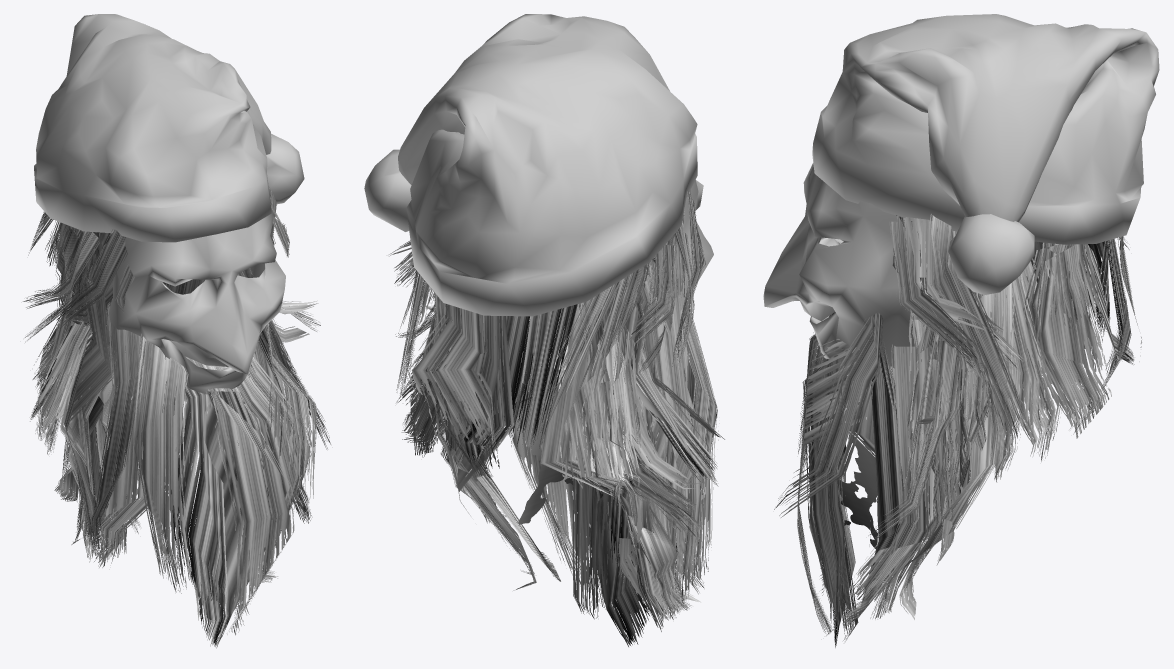
File: Mask_E.fbx
3 views of the same model, side by side, from view 1: azimuth 30°, elevation 25°; view 2: azimuth 150°, elevation 25°; view 3: azimuth 270°, elevation 25° (orthographic). The views are drawn at different scales.
Parts seen in each view (by area): view 1: Mask_E; view 2: Mask_E; view 3: Mask_E.
Boxes of the visible parts, <box> form: Mask_E: <box>23,14,330,648</box>; Mask_E: <box>364,14,724,646</box>; Mask_E: <box>763,14,1159,647</box>.
Bounding box in the file's own units: 28.47 × 51.82 × 29.25.
